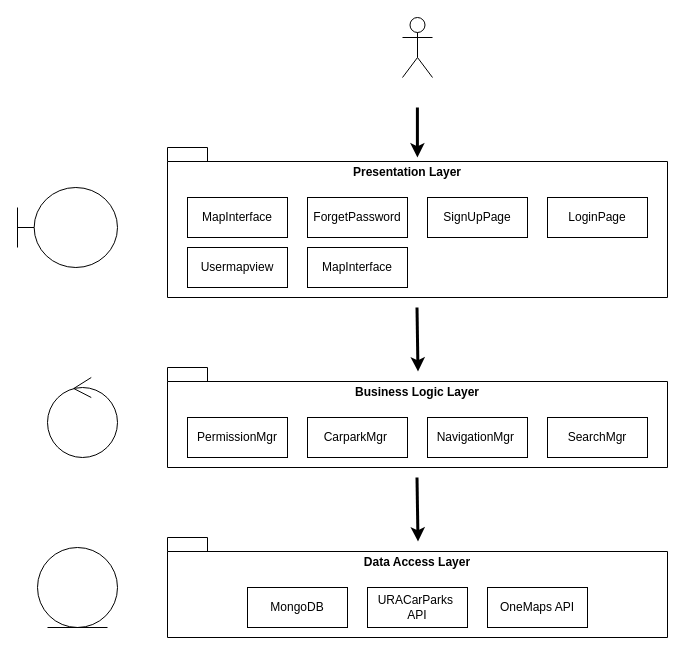
This 695x655 diagram has some shape labels left out. The centre of each missing label's shape, as x and y in pixels:
Boundary Classes: the point at 67,227
Control Classes: the point at 82,417
Entity Classes: the point at 77,587
User: the point at 417,47
